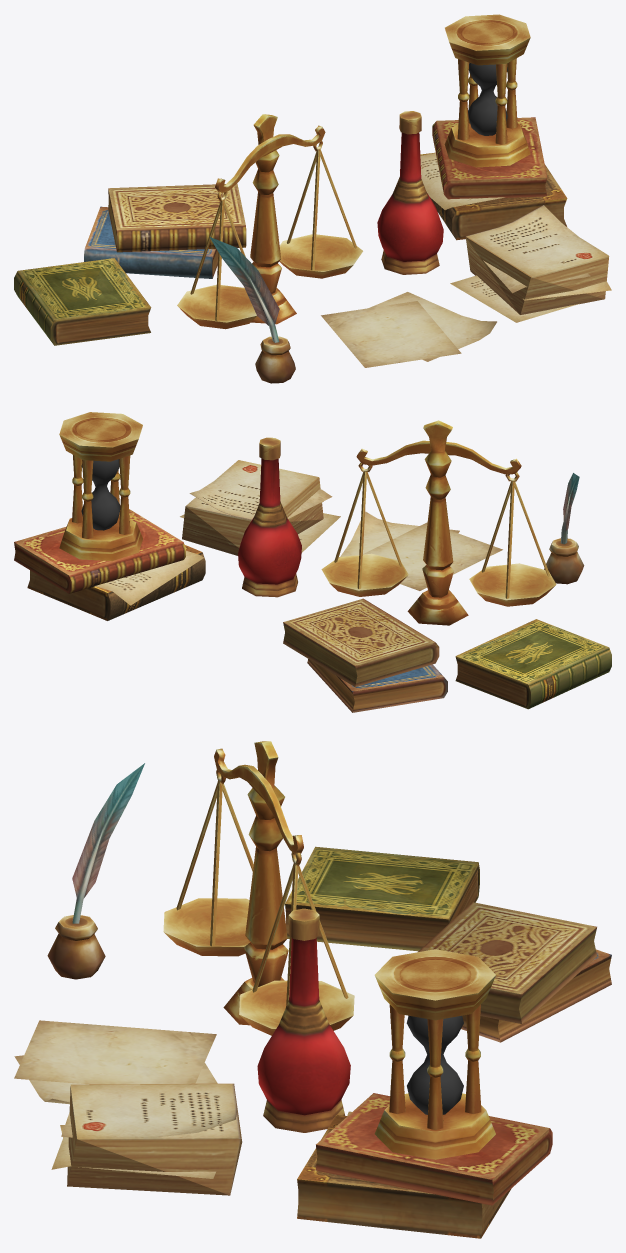
The model's file is Table_Preset_04.FBX.
3 renders of one model, top to bottom at view 1: azimuth 30°, elevation 25°; view 2: azimuth 150°, elevation 25°; view 3: azimuth 270°, elevation 25°, orthographic. The views are drawn at different scales.
Visible parts, largest first — view 1: Table_Preset_04; view 2: Table_Preset_04; view 3: Table_Preset_04.
Part boxes in pixels (x1,y1,x2,y2): Table_Preset_04: (14, 14, 611, 383); Table_Preset_04: (14, 412, 611, 712); Table_Preset_04: (14, 741, 611, 1238).
Size of the model in its own units: 154 by 106 by 52.77.
